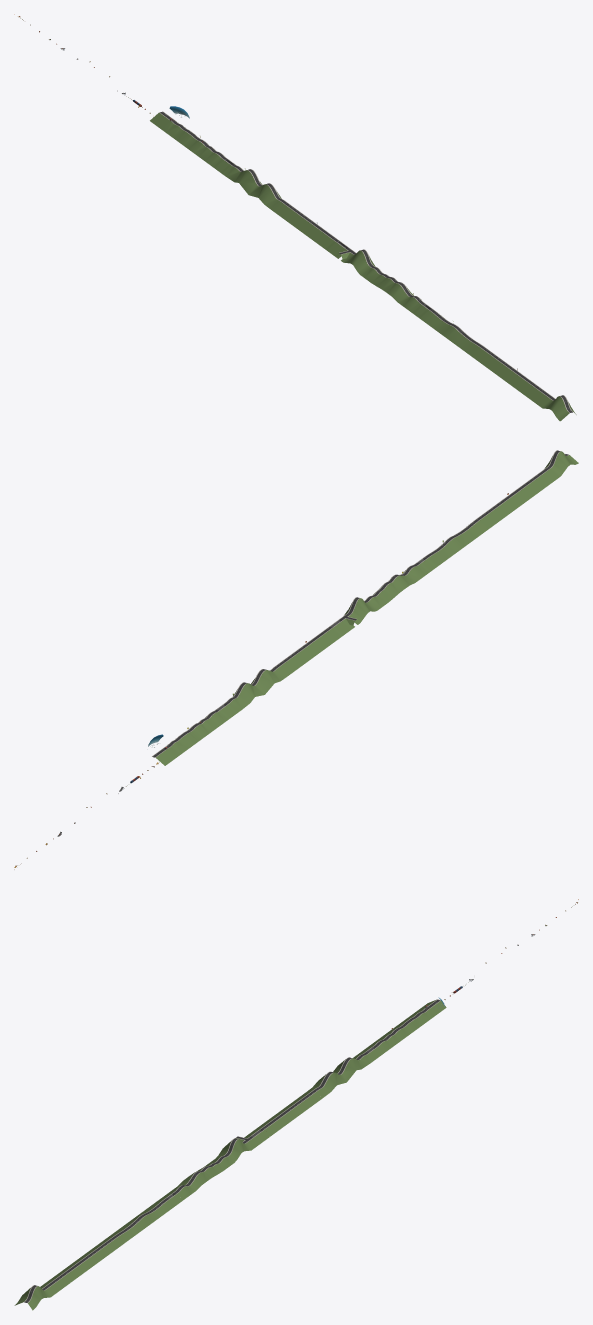
File: level_event_1.glb
The picture shows the model from 3 angles, top to bottom: view 1: azimuth 30°, elevation 25°; view 2: azimuth 150°, elevation 25°; view 3: azimuth 330°, elevation 25°; orthographic projection.
Visible parts, largest first — view 1: road_hard_02, road_normal_06, road_easy_07, road_easy_00, road_easy_00 (1), road_easy_06; view 2: road_hard_02, road_normal_06, road_easy_07, road_easy_00, road_easy_00 (1), road_easy_06; view 3: road_hard_02, road_easy_00, road_easy_07, road_easy_06, road_easy_00 (1), road_normal_06.
Boxes of the visible parts, box(x1,y1,x2,y2) form: road_hard_02: box(222, 164, 286, 211); road_normal_06: box(361, 266, 424, 312); road_easy_07: box(161, 120, 225, 166); road_easy_00: box(273, 202, 337, 248); road_easy_00 (1): box(471, 347, 535, 393); road_easy_06: box(420, 309, 484, 356); road_hard_02: box(225, 665, 289, 712); road_normal_06: box(364, 563, 428, 609); road_easy_07: box(163, 710, 228, 757); road_easy_00: box(277, 627, 341, 674); road_easy_00 (1): box(476, 481, 540, 528); road_easy_06: box(424, 519, 488, 566); road_hard_02: box(303, 1053, 373, 1098); road_easy_00: box(252, 1090, 321, 1136); road_easy_07: box(365, 1008, 434, 1053); road_easy_06: box(104, 1198, 173, 1244); road_easy_00 (1): box(53, 1236, 122, 1282); road_normal_06: box(164, 1154, 232, 1200).
Size of what is drawn, in the model's own units: 58.1 by 41.32 by 2094.
Materials: 7 (7 with a texture image).
